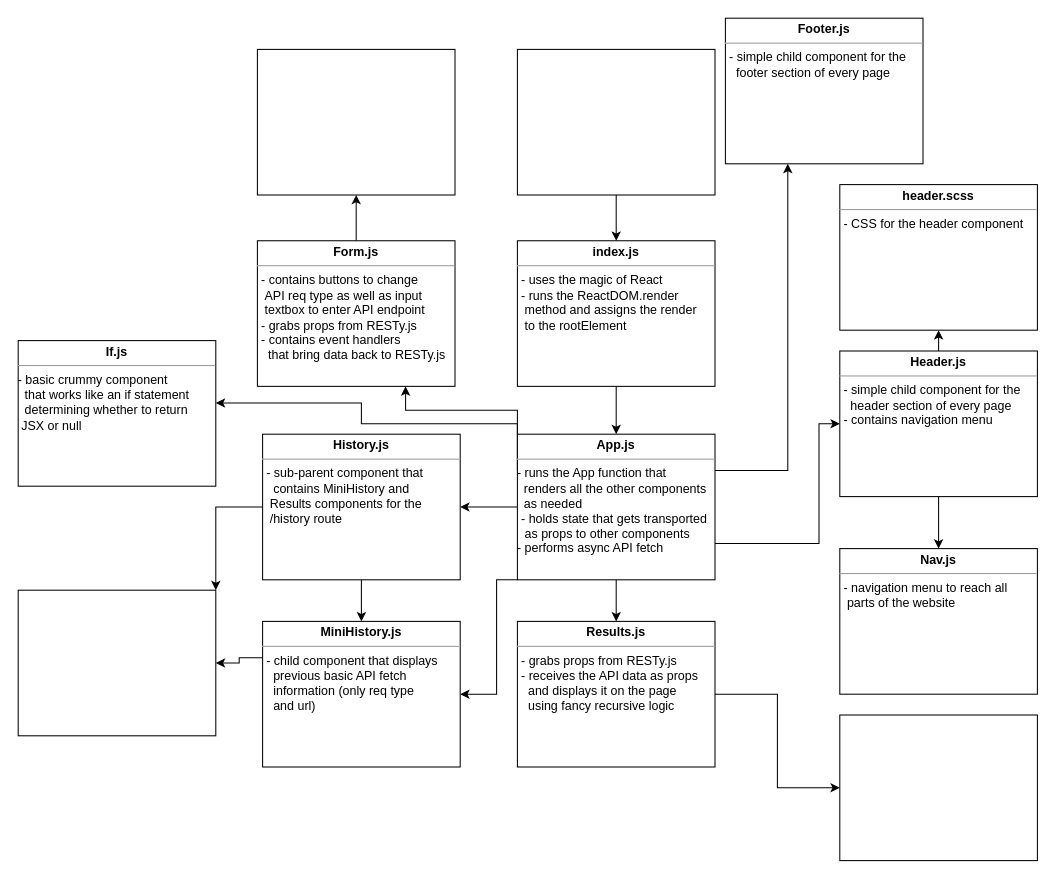
Some shapes in this 1056 by 879 pixel diagram are drawn without their labels. Each missing label, with the centre of its shape:
"form.scss - CSS for the form component" goes at point (355, 121).
"history.scss - CSS for the history and minihistory components" goes at point (116, 662).
"index.html - template file on which the React content gets rendered when running" goes at point (615, 121).
"results.scss - CSS for the results component" goes at point (938, 787).
